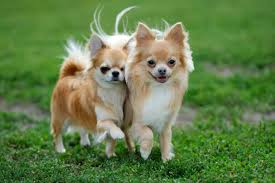Chihuahua: (37, 36, 125, 156), (127, 22, 197, 165)
